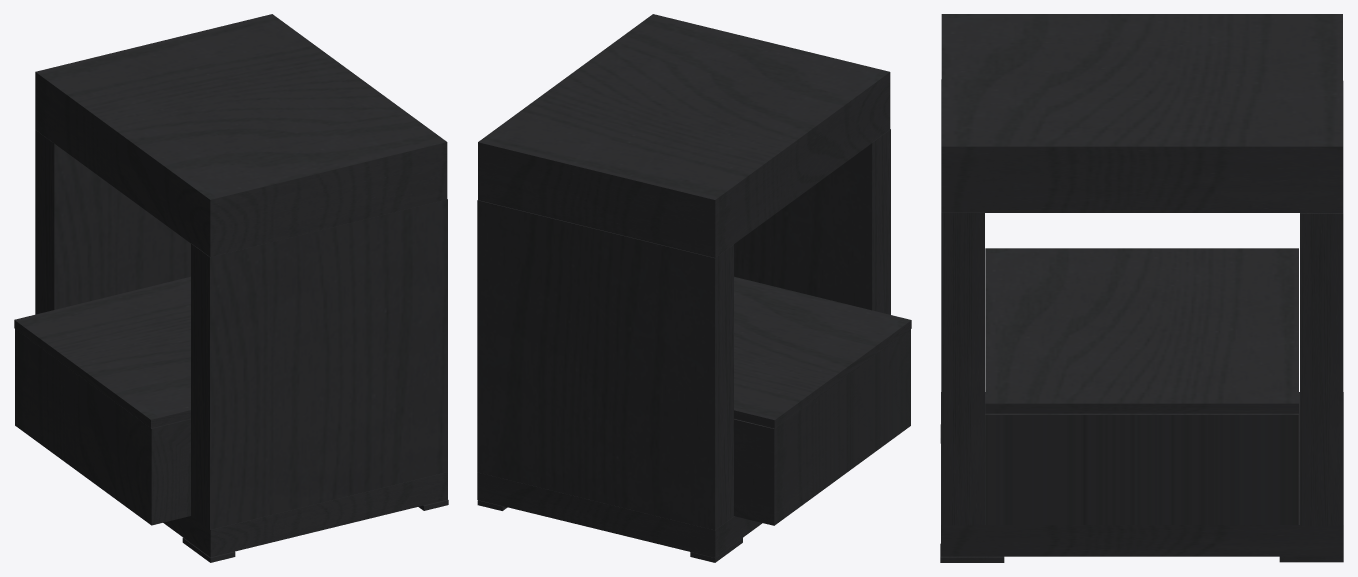
The picture shows the model from 3 angles, left to right: view 1: azimuth 30°, elevation 25°; view 2: azimuth 150°, elevation 25°; view 3: azimuth 270°, elevation 25°; orthographic projection. The views are drawn at different scales.
Visible parts, largest first — view 1: Cubo.001; view 2: Cubo.001; view 3: Cubo.001.
Boxes of the visible parts, box(x1,y1,x2,y2) form: Cubo.001: box(14, 14, 448, 562); Cubo.001: box(477, 14, 911, 562); Cubo.001: box(940, 14, 1343, 562).
Bounding box in the file's own units: 2.62 × 3.27 × 2.87.
1 material, 1 textured.
